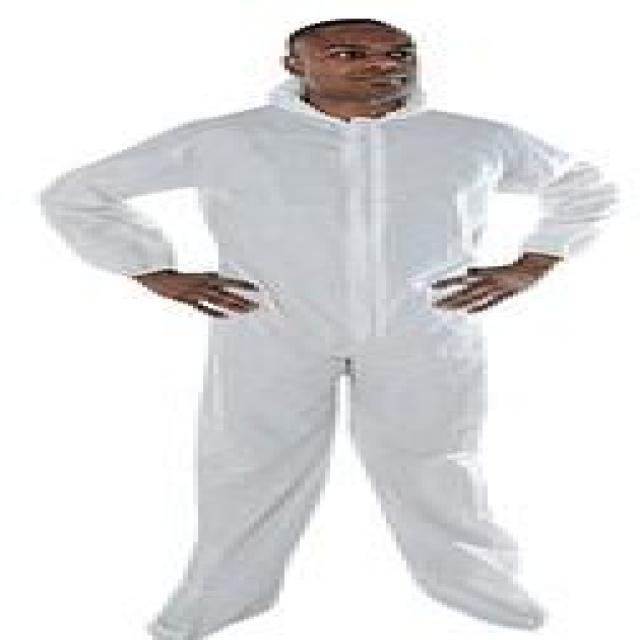Coverall: (25, 3, 579, 629)
